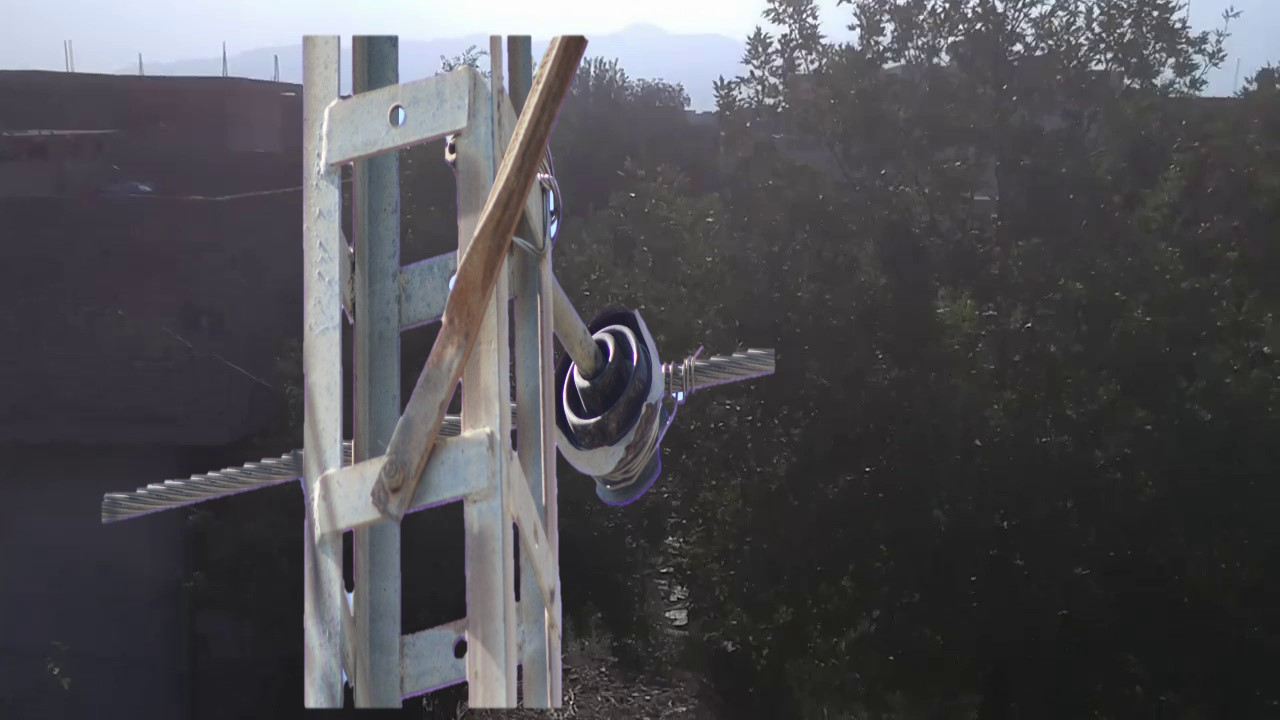defect_pin: (552, 303, 679, 519)
